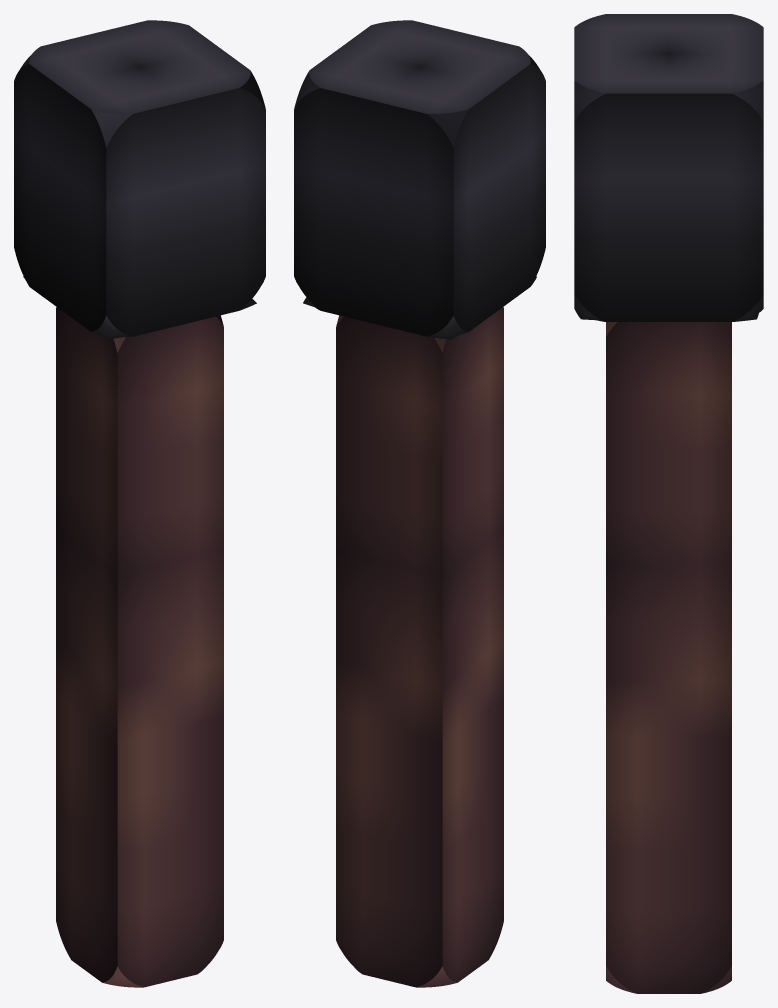
The model's file is Torch.fbx.
3 renders of one model, left to right at view 1: azimuth 30°, elevation 25°; view 2: azimuth 150°, elevation 25°; view 3: azimuth 270°, elevation 25°, orthographic. The views are drawn at different scales.
Visible parts, largest first — view 1: Torch; view 2: Torch; view 3: Torch.
Part boxes in pixels (bbox=[...]): Torch: bbox=[14, 20, 265, 987]; Torch: bbox=[294, 20, 545, 987]; Torch: bbox=[574, 14, 763, 993].
Size of the model in its own units: 18.73 by 100 by 18.76.
1 material, 1 textured.
